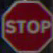Stop: (1, 2, 50, 46)
